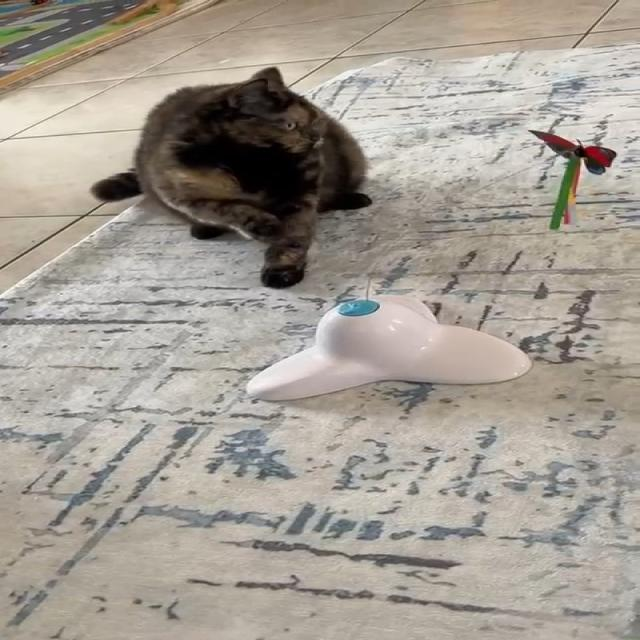authorized: (89, 66, 372, 288)
